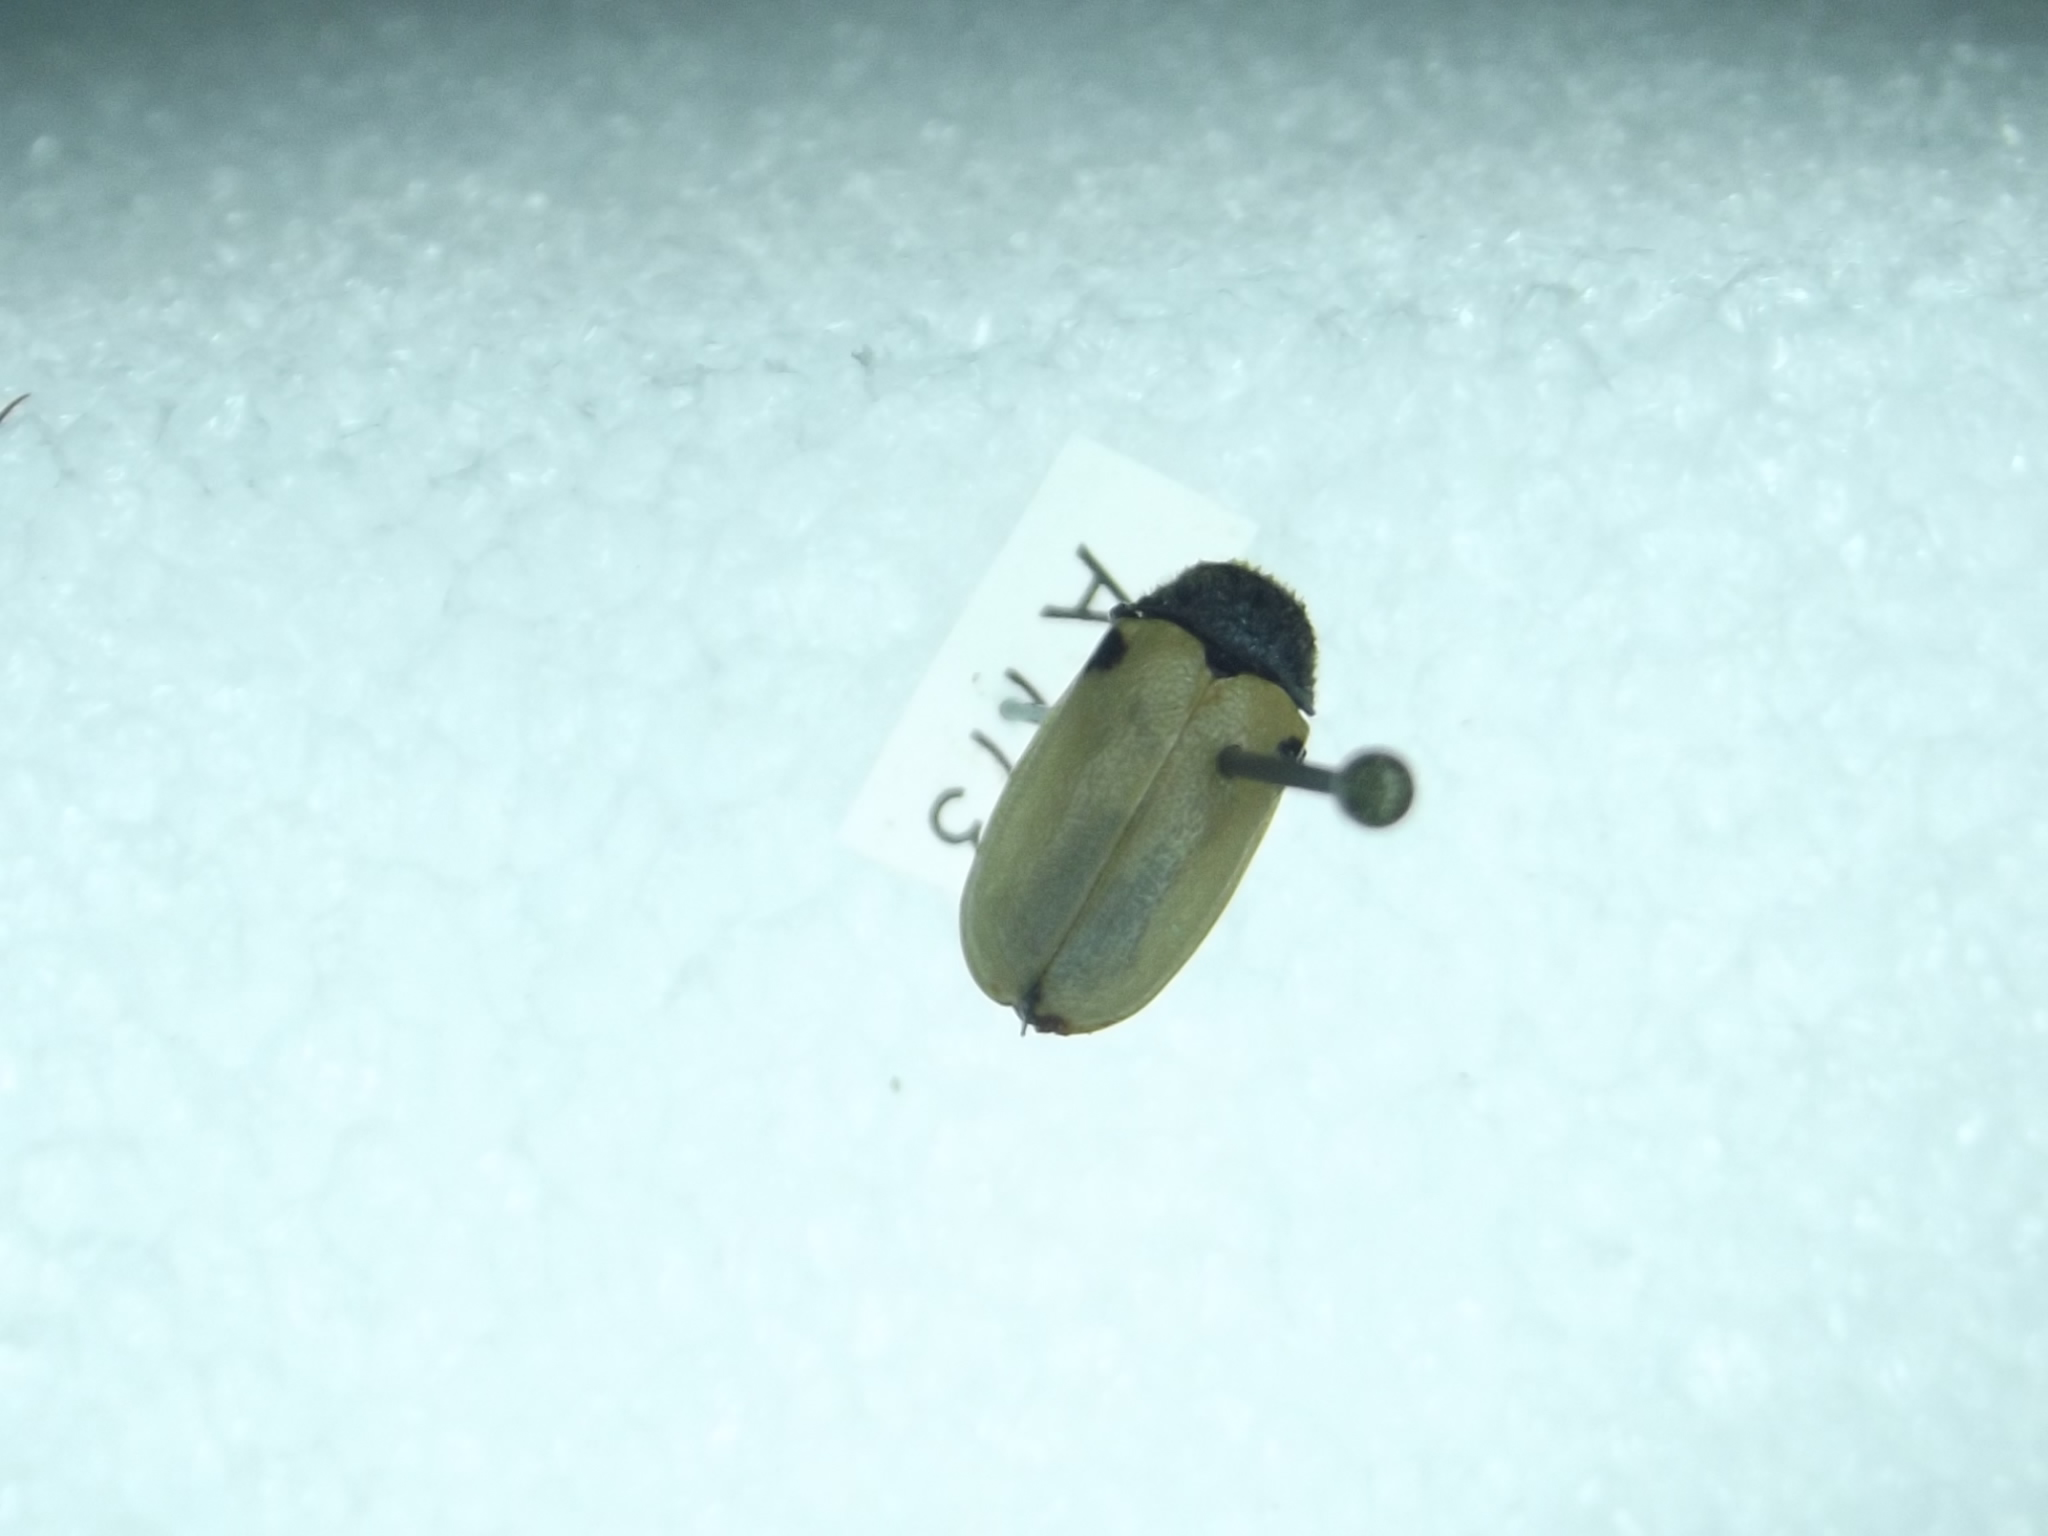Labidostomis_propinqua: (942, 555, 1321, 1054)
